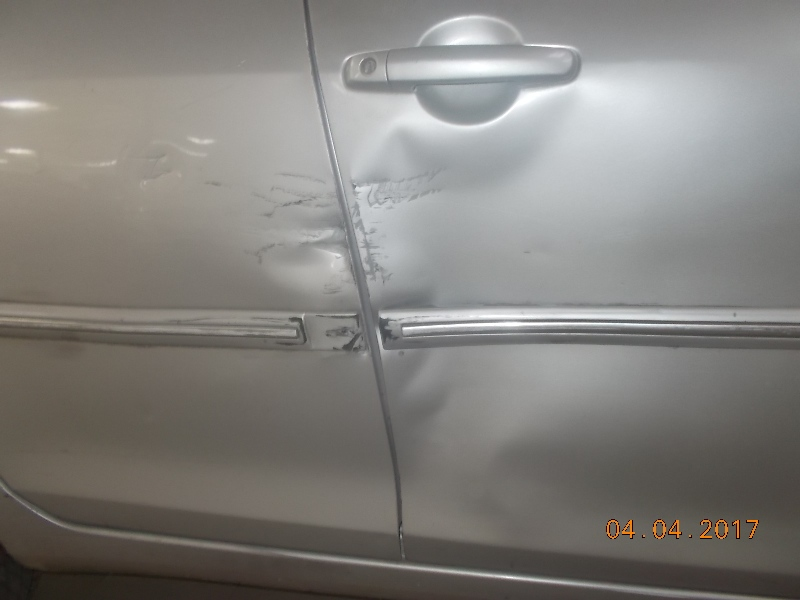Dent: (370, 135, 457, 307), (264, 167, 330, 302)
